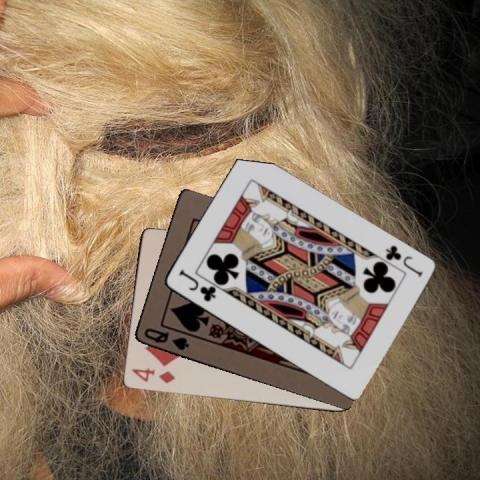4d: (128, 365, 176, 385)
Jc: (381, 242, 424, 279), (175, 267, 217, 303)
Qs: (140, 325, 191, 353)
